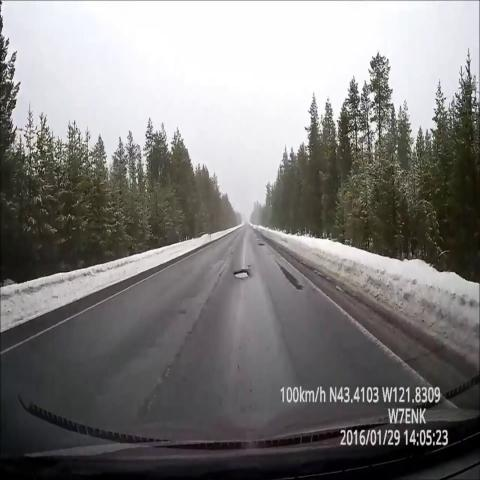pothole: (226, 258, 255, 287), (253, 233, 266, 254)
